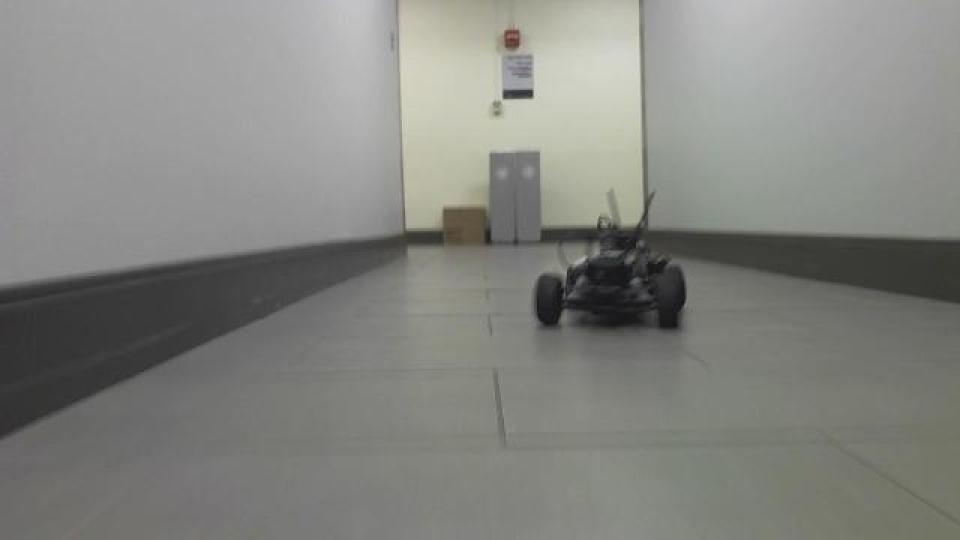car: (530, 186, 688, 333)
